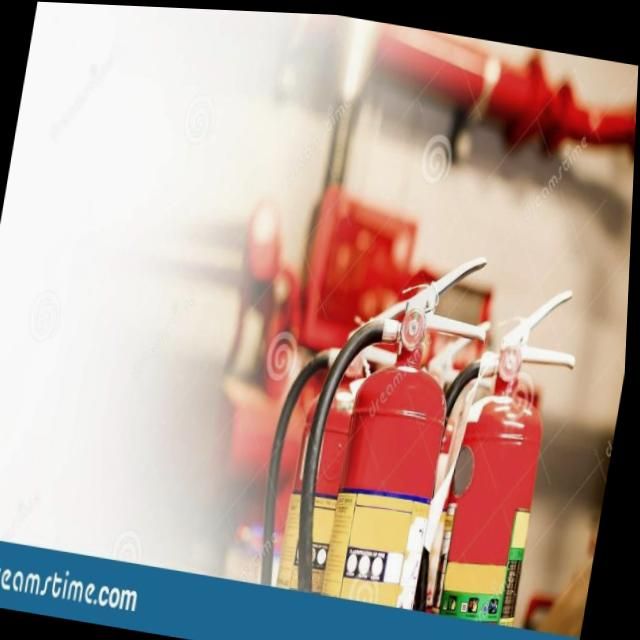FireExtinguisher: (291, 225, 503, 609), (405, 260, 592, 626), (254, 275, 424, 600)
